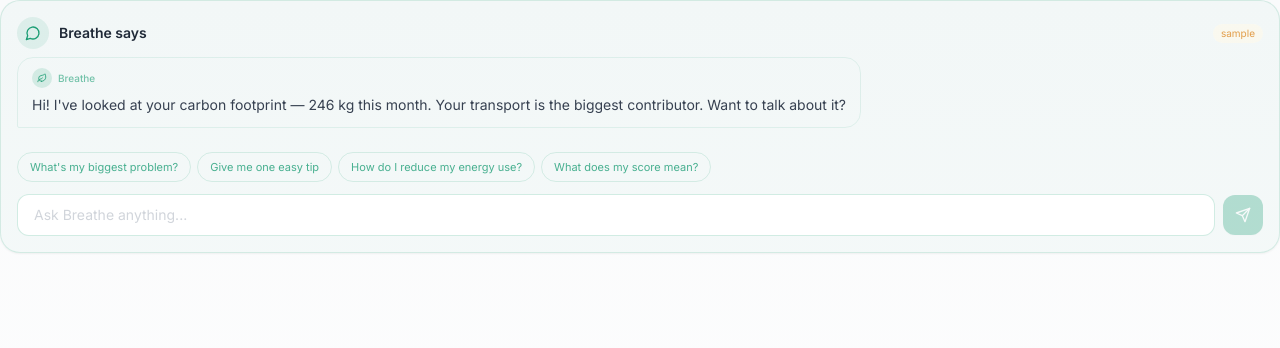
it: ChatBot Component › submitting form in sample mode appends user message
Type "How can I reduce emissions?" into the field with placeholder "Ask Breathe anything..." at (616, 215), box [17,194,1215,236]
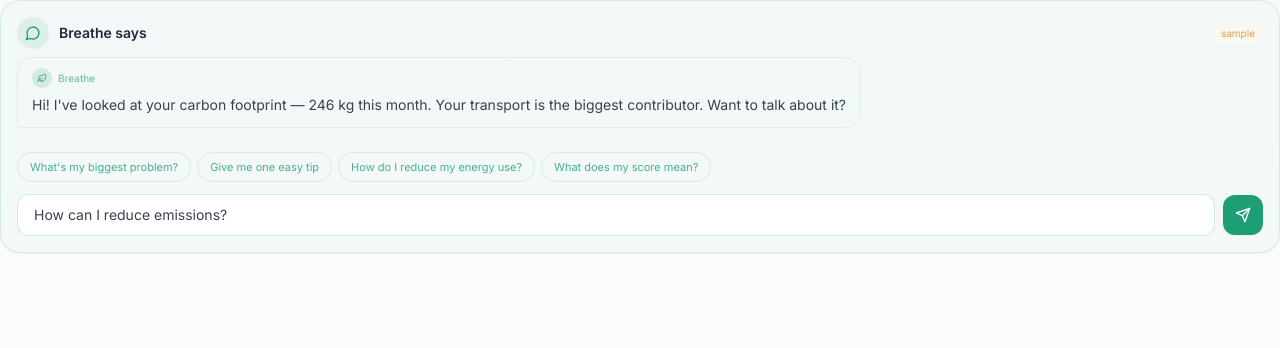
Submit the form with placeholder "Ask Breathe anything", box [17,194,1263,236]
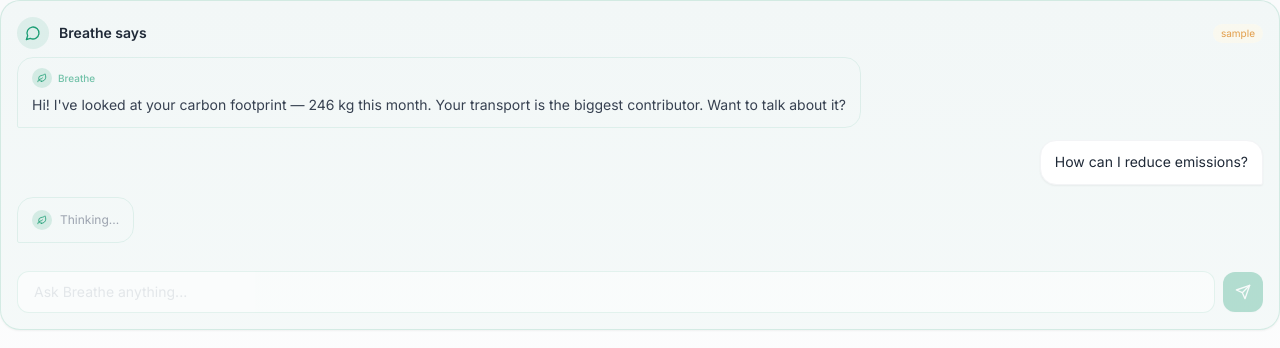
Expected: the text "How can I reduce emissions?" is shown, [1055,151,1248,174]
